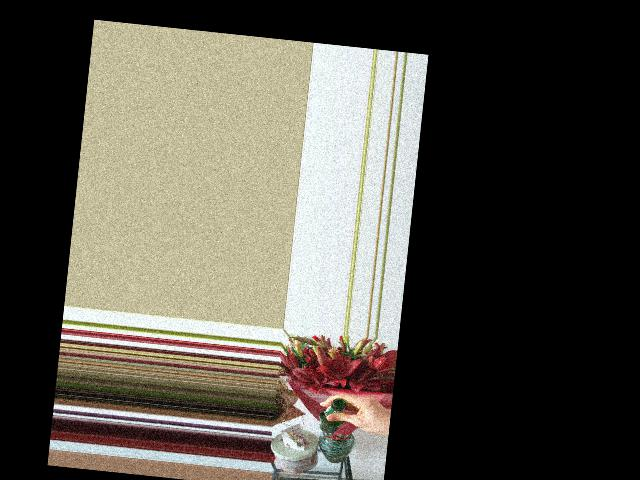beer: (318, 396, 348, 434)
